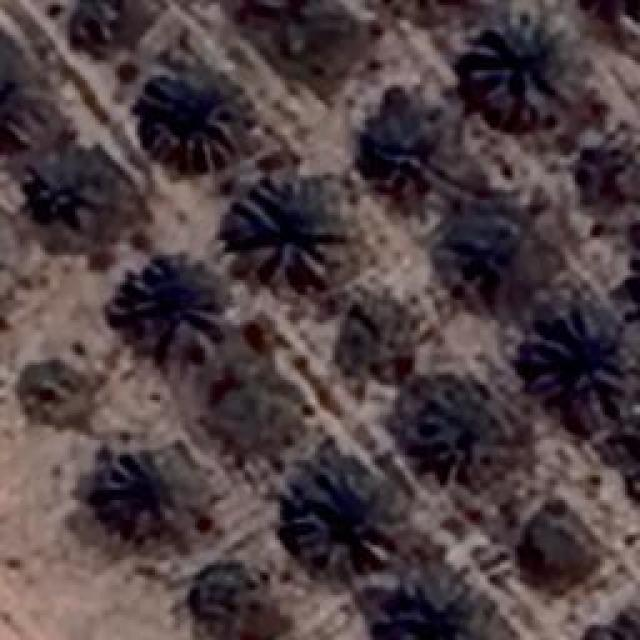PalmTree: (37, 60, 234, 610), (465, 9, 580, 122), (122, 238, 228, 352), (395, 384, 510, 478), (377, 90, 475, 198), (534, 310, 638, 408), (141, 68, 241, 162), (290, 480, 395, 568), (232, 188, 332, 280), (108, 461, 204, 551), (382, 575, 498, 640), (510, 496, 595, 580), (24, 137, 102, 220), (447, 219, 525, 299), (350, 295, 415, 375), (250, 0, 334, 60), (579, 138, 640, 212), (62, 0, 140, 49), (584, 604, 640, 640), (622, 411, 640, 506), (579, 0, 640, 26), (579, 0, 640, 21), (629, 411, 640, 506)
